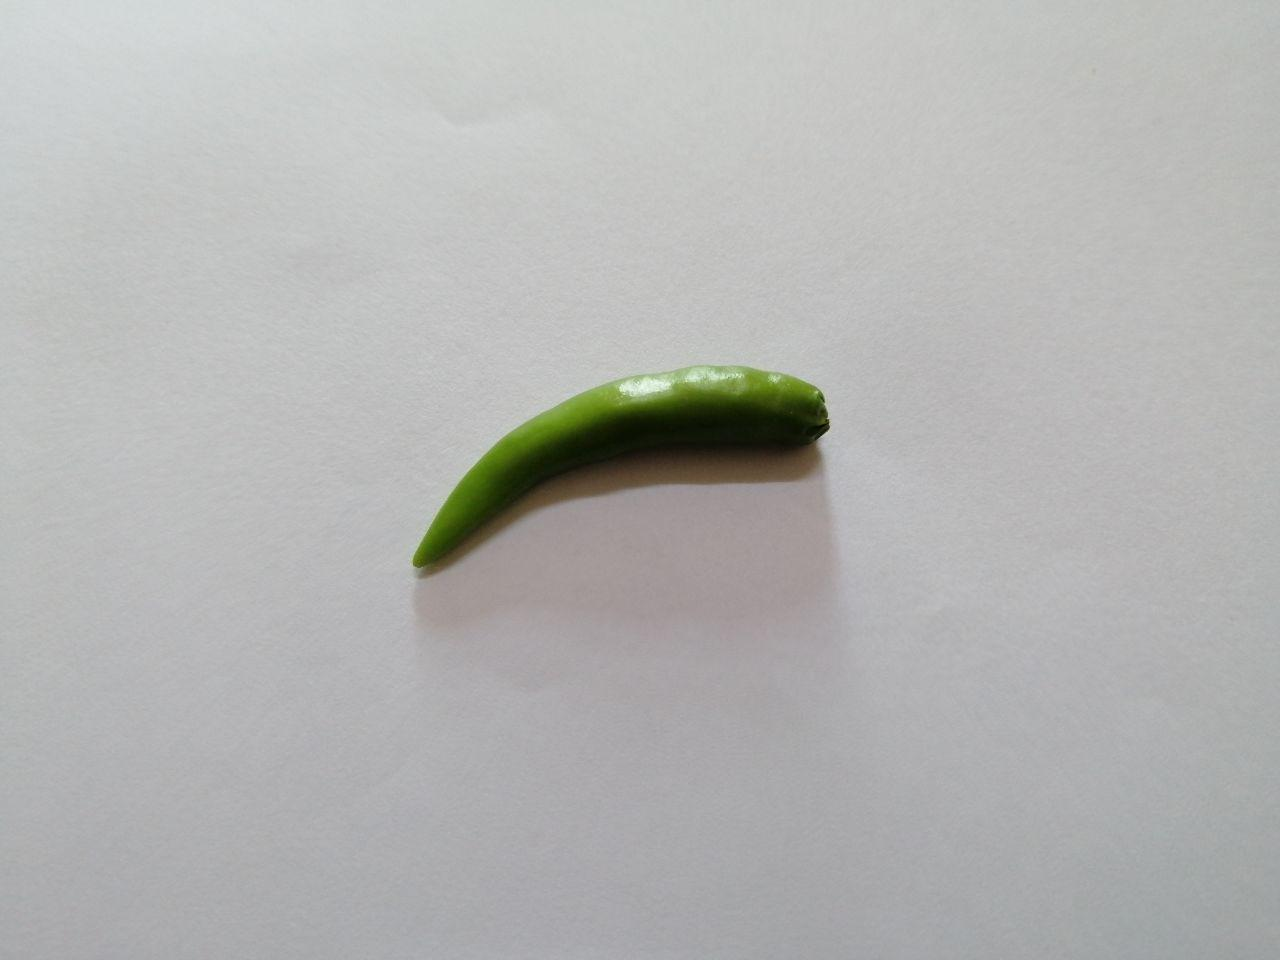lada hijau: (365, 318, 880, 597)
